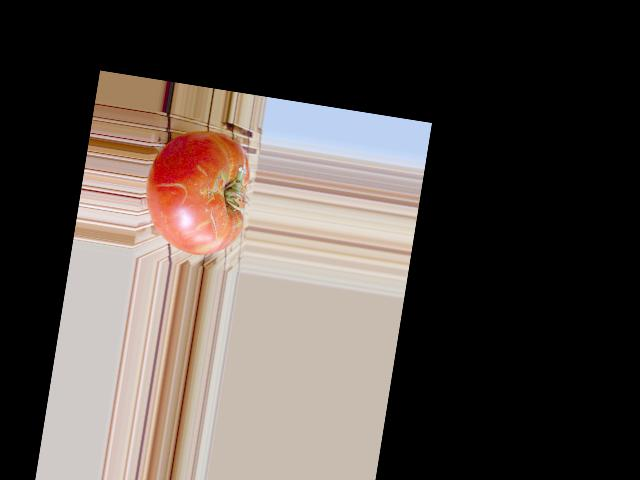tomato: (138, 122, 256, 260)
